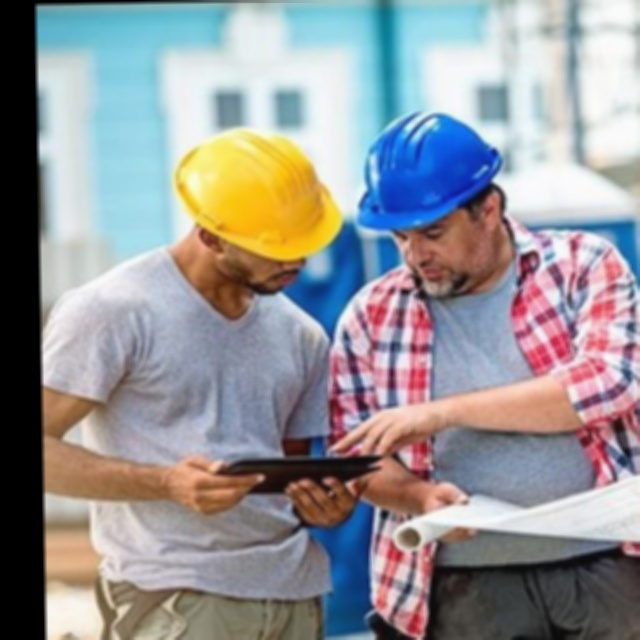Con_Casco: (350, 103, 512, 287), (172, 132, 330, 276)
